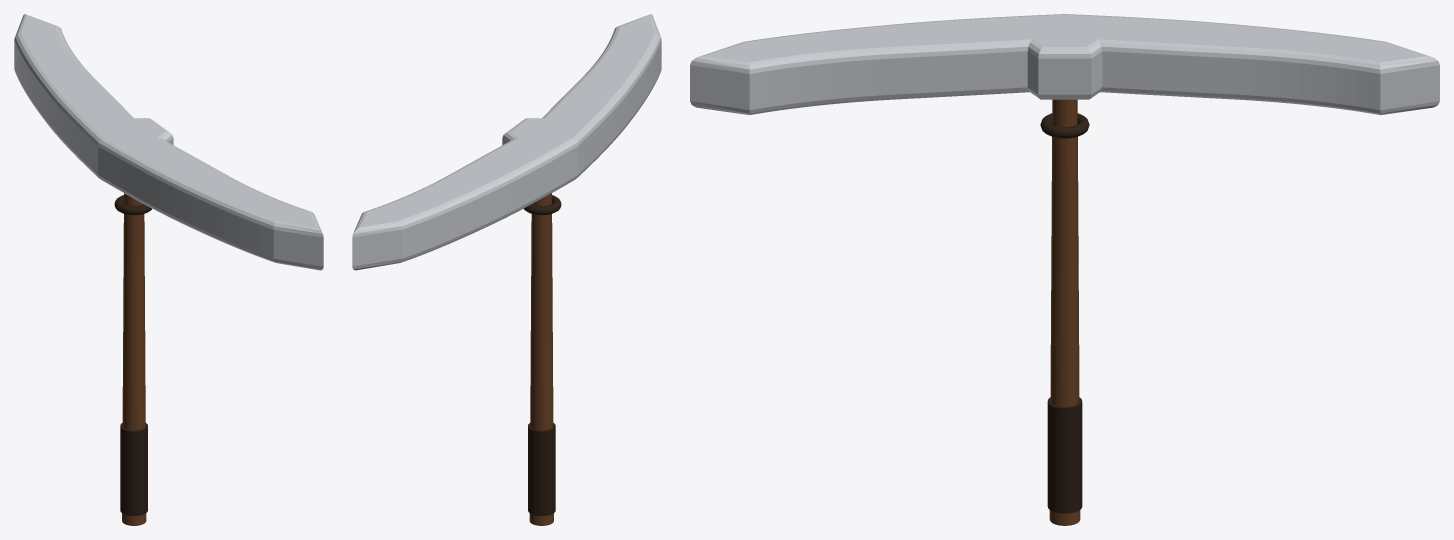
Rendered from iron_pickaxe.glb.
3 renders of one model, left to right at view 1: azimuth 30°, elevation 25°; view 2: azimuth 150°, elevation 25°; view 3: azimuth 270°, elevation 25°, orthographic. The views are drawn at different scales.
Visible parts, largest first — view 1: head, handle, gripWrap, binding0; view 2: head, handle, gripWrap, binding0; view 3: head, handle, gripWrap.
Boxes of the visible parts, x1,y1,x2,y2 form: head: (14, 14, 323, 270); handle: (122, 193, 146, 525); gripWrap: (120, 423, 147, 516); binding0: (114, 195, 151, 215); head: (352, 14, 661, 270); handle: (529, 193, 553, 525); gripWrap: (528, 423, 555, 516); binding0: (524, 195, 561, 215); head: (690, 14, 1439, 114); handle: (1049, 99, 1080, 525); gripWrap: (1047, 397, 1082, 513).
Size of the model in its own units: 0.1798 by 0.7395 by 1.03.
